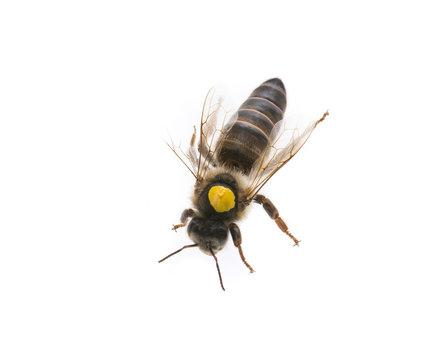Queen-Bee: (148, 49, 336, 305)
